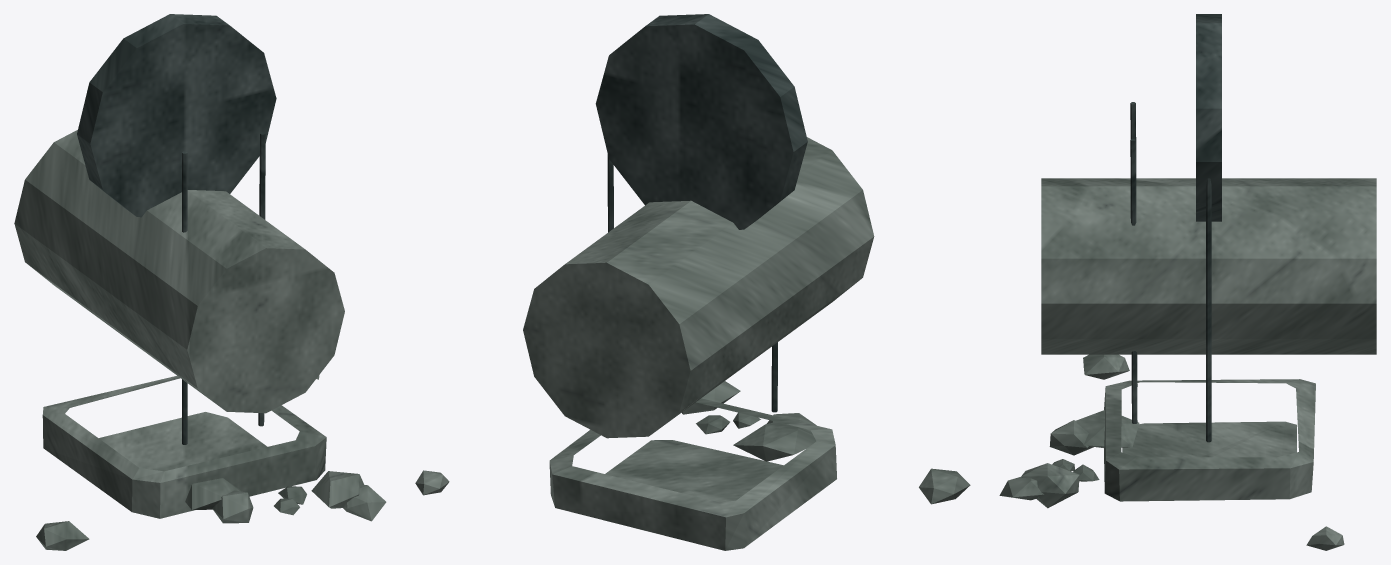
Rendered from 0260_broken_column_10.glb.
3 views of the same model, side by side, from view 1: azimuth 30°, elevation 25°; view 2: azimuth 150°, elevation 25°; view 3: azimuth 270°, elevation 25° (orthographic). The views are drawn at different scales.
Visible parts, largest first — view 1: stone, stone_dark; view 2: stone, stone_dark; view 3: stone, stone_dark.
Boxes of the visible parts, x1=… form: stone: x1=14, y1=130, x2=386, y2=550; stone_dark: x1=77, y1=14, x2=276, y2=444; stone: x1=415, y1=137, x2=970, y2=550; stone_dark: x1=595, y1=14, x2=807, y2=412; stone: x1=999, y1=178, x2=1376, y2=550; stone_dark: x1=1130, y1=14, x2=1221, y2=442.
Size of the model in its own units: 2.55 by 2.77 by 2.16.
2 materials, 2 textured.
